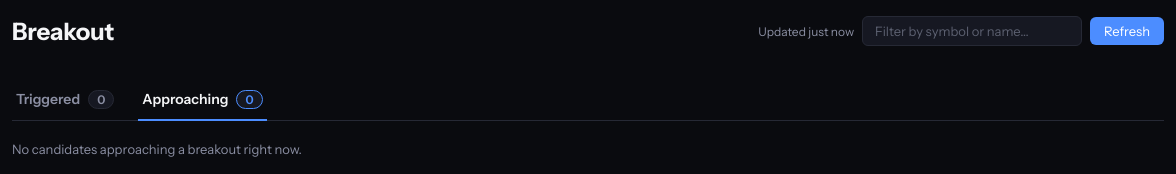
BreakoutView › shows a no-matches message when the search filters everything out
The image size is (1176, 174).
Type "zzz" into the field with class "search" at (972, 31), box [862,16,1082,46]
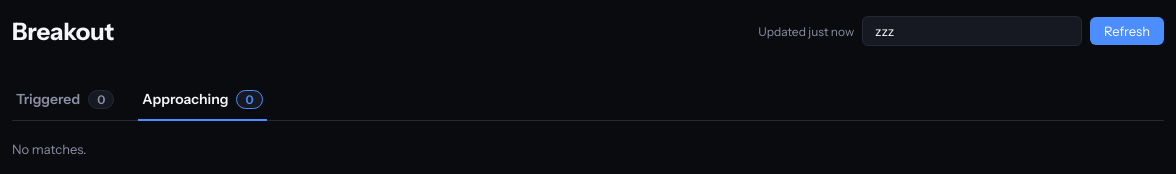
Expected: the text "No matches." is shown, [12,141,86,157]
